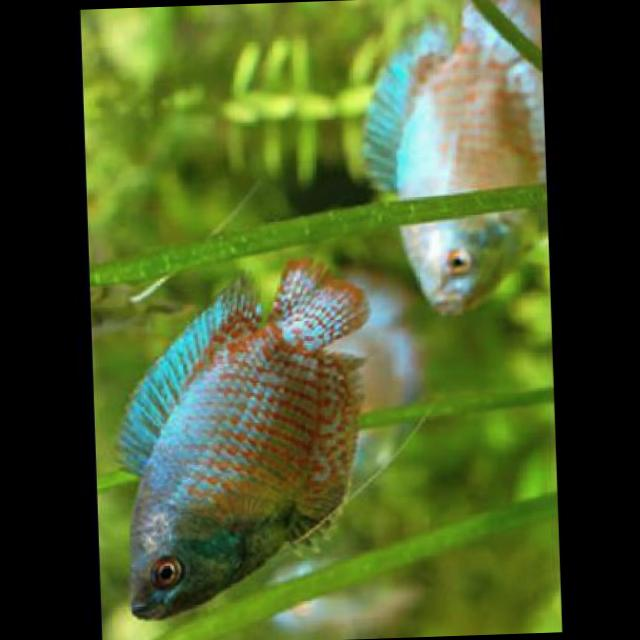Gourami: (111, 264, 374, 622), (355, 3, 548, 317)
